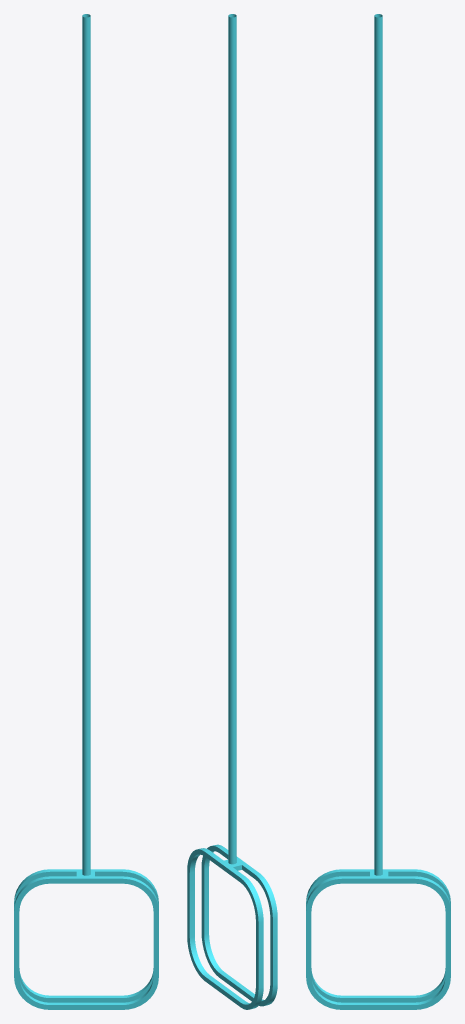
Rendered from cutter7_roundcube.fbx.
3 views of the same model, side by side, from view 1: azimuth 90°, elevation 25°; view 2: azimuth 210°, elevation 25°; view 3: azimuth 270°, elevation 25° (orthographic).
Visible parts, largest first — view 1: Cutter7_Roundcube; view 2: Cutter7_Roundcube; view 3: Cutter7_Roundcube.
Part boxes in pixels (x1,y1,x2,y2): Cutter7_Roundcube: (14,14,158,1009); Cutter7_Roundcube: (187,14,277,1009); Cutter7_Roundcube: (306,14,450,1009).
Size of the model in its own units: 16.81 by 815 by 108.
